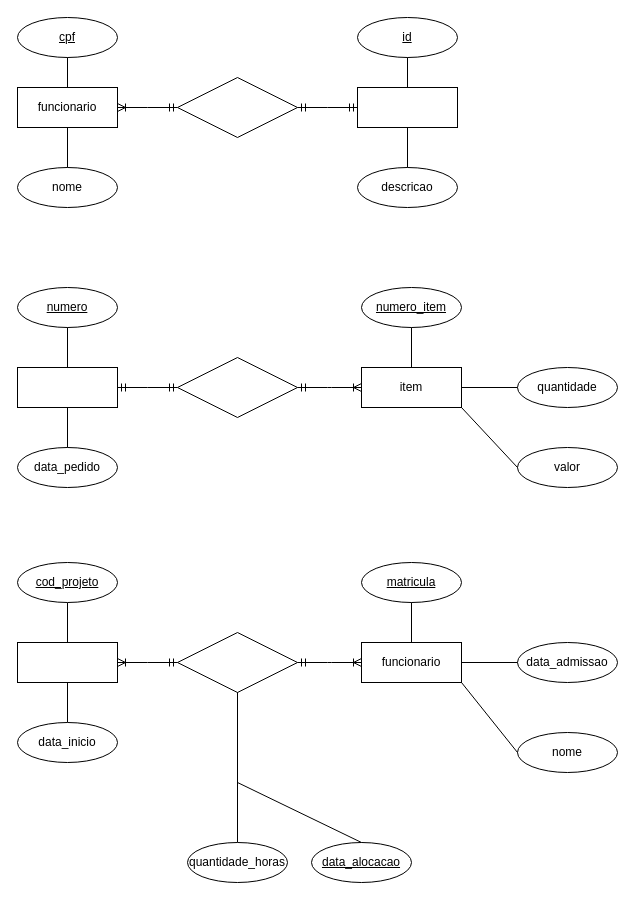
The diagram is 635 pixels wide and 900 high, and some of its shapes have lost their labels. The shapes that lost their labels are listed below. From the top down, each one's centre as x and y in pixels, then its label:
At (237,107): "aloca".
At (407,107): "departamento".
At (67,387): "pedido".
At (237,387): "contém".
At (67,662): "projeto".
At (237,662): "alocacao".
